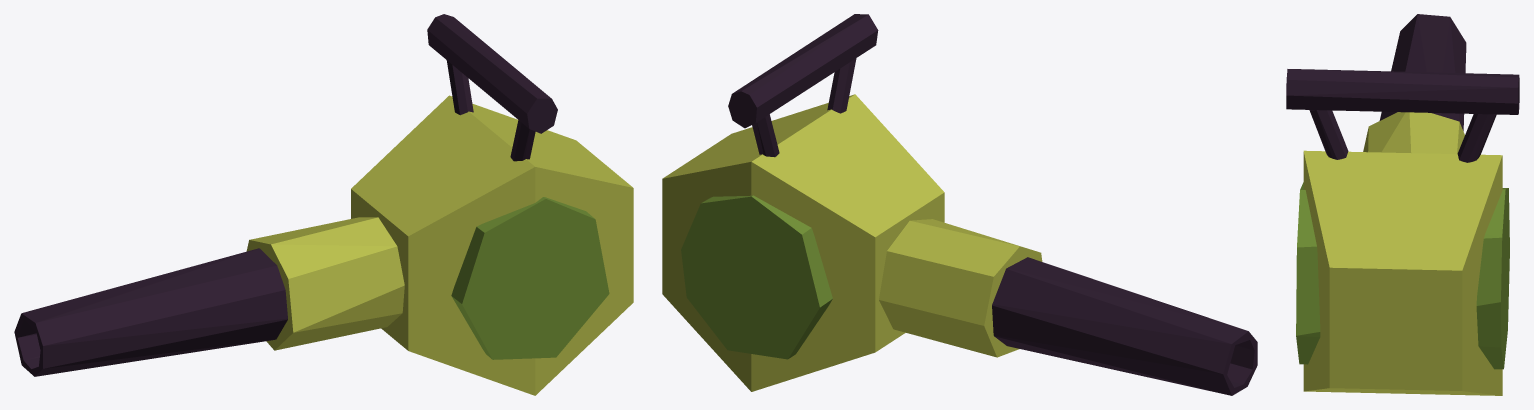
Rendered from basic_blower.fbx.
3 views of the same model, side by side, from view 1: azimuth 30°, elevation 25°; view 2: azimuth 150°, elevation 25°; view 3: azimuth 270°, elevation 25° (orthographic). The views are drawn at different scales.
Visible parts, largest first — view 1: blower, Cylinder.001, Cylinder.005, Cylinder, Cylinder.004, Cylinder.003, Cylinder.002; view 2: blower, Cylinder.001, Cylinder.005, Cylinder, Cylinder.004, Cylinder.002, Cylinder.003; view 3: blower, Cylinder.004, Cylinder.005, Cylinder.001, Cylinder, Cylinder.002, Cylinder.003.
Boxes of the visible parts, bbox=[...] form: blower: bbox=[351, 95, 633, 395]; Cylinder.001: bbox=[14, 248, 287, 376]; Cylinder.005: bbox=[451, 197, 609, 359]; Cylinder: bbox=[246, 217, 404, 350]; Cylinder.004: bbox=[427, 14, 557, 133]; Cylinder.003: bbox=[446, 60, 473, 115]; Cylinder.002: bbox=[510, 120, 535, 161]; blower: bbox=[662, 94, 944, 391]; Cylinder.001: bbox=[992, 257, 1257, 395]; Cylinder.005: bbox=[681, 195, 832, 359]; Cylinder: bbox=[879, 219, 1042, 357]; Cylinder.004: bbox=[728, 14, 878, 128]; Cylinder.002: bbox=[827, 58, 856, 113]; Cylinder.003: bbox=[752, 114, 779, 157]; blower: bbox=[1303, 150, 1502, 395]; Cylinder.004: bbox=[1286, 69, 1519, 114]; Cylinder.005: bbox=[1296, 182, 1509, 369]; Cylinder.001: bbox=[1379, 14, 1466, 130]; Cylinder: bbox=[1363, 112, 1464, 154]; Cylinder.002: bbox=[1309, 110, 1348, 159]; Cylinder.003: bbox=[1457, 114, 1496, 162].
Bounding box in the file's own units: 1028 × 531 × 352.
